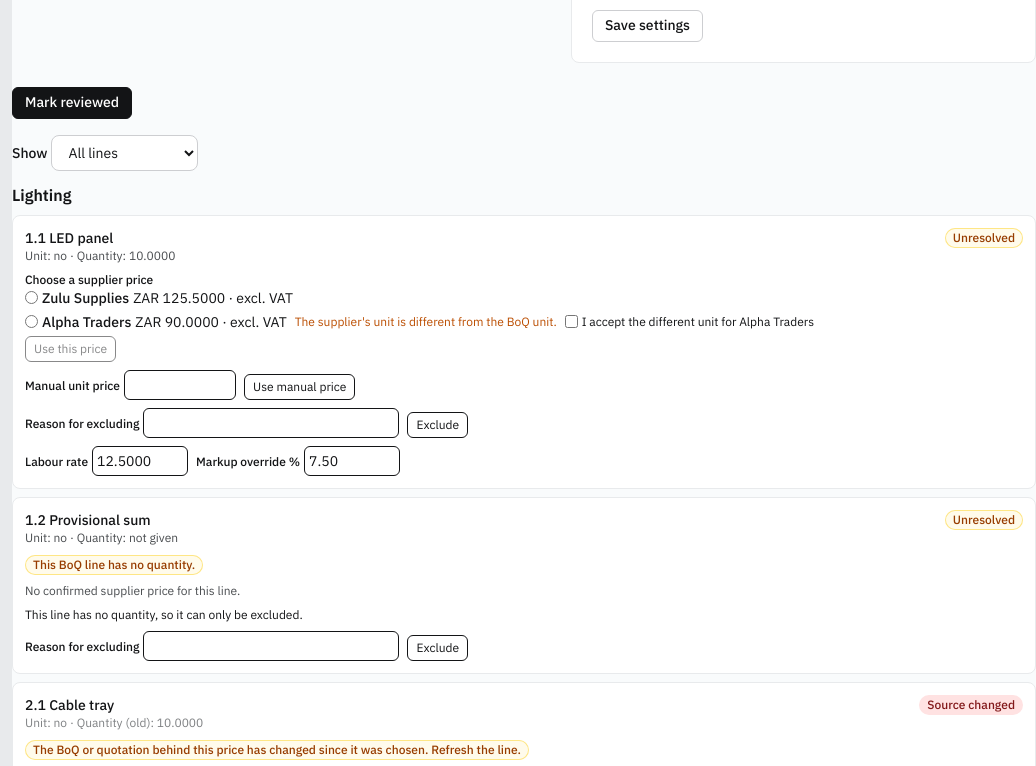
it: line controls › sends nothing for the invalid manual price 1.23456
(page scrolled)
Expected: the text "1.1 LED panel" is shown, [25,228,113,248]
Type "1.23456" into the field labelled "Manual unit price". click: (180, 384)
box: [124,370,236,400]
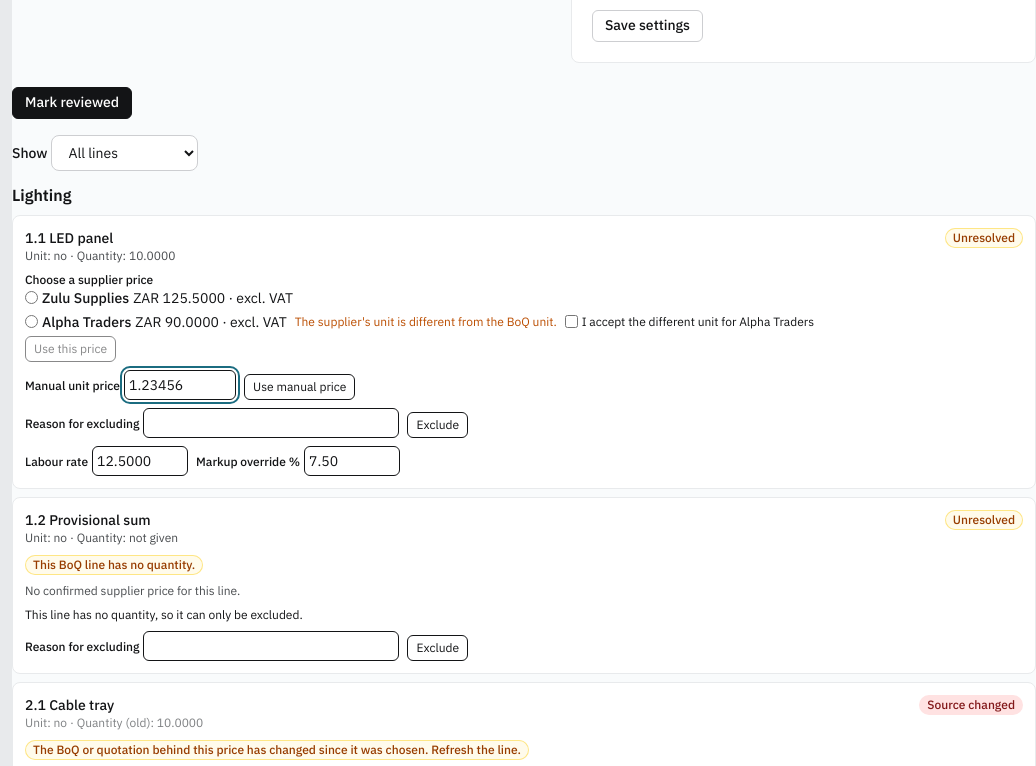
Click the button "Use manual price". click: (300, 386)
box: [244,374,355,400]
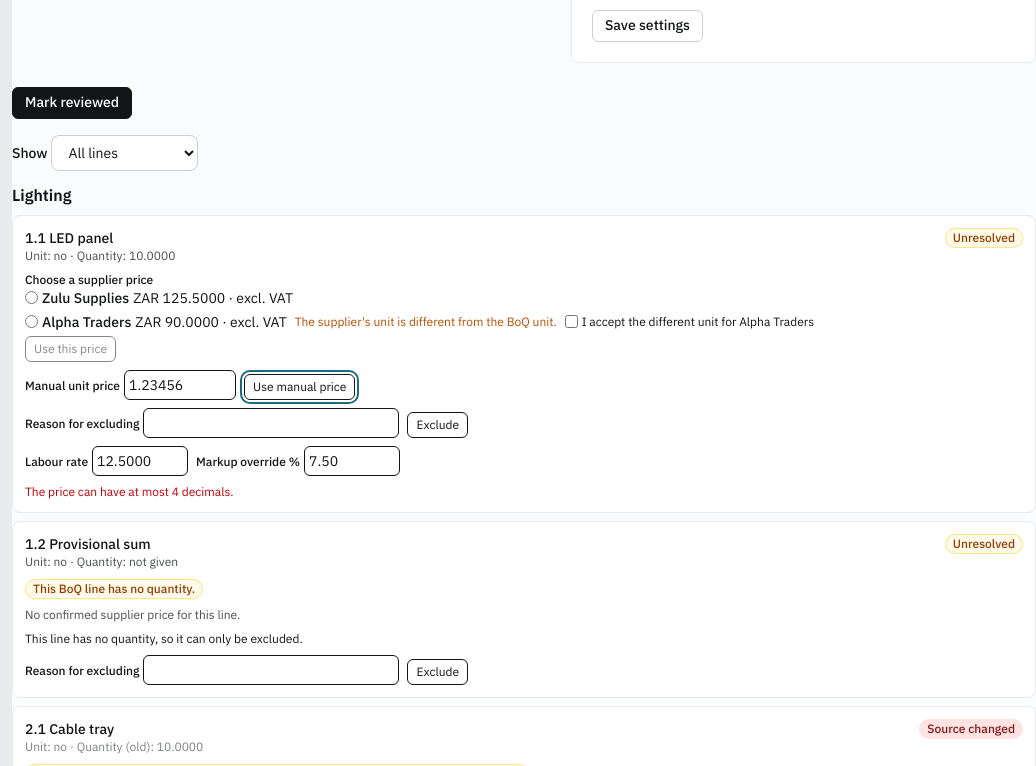
Expected: the message "The price can have at most 4 decimals." is shown, [25,484,234,498]
